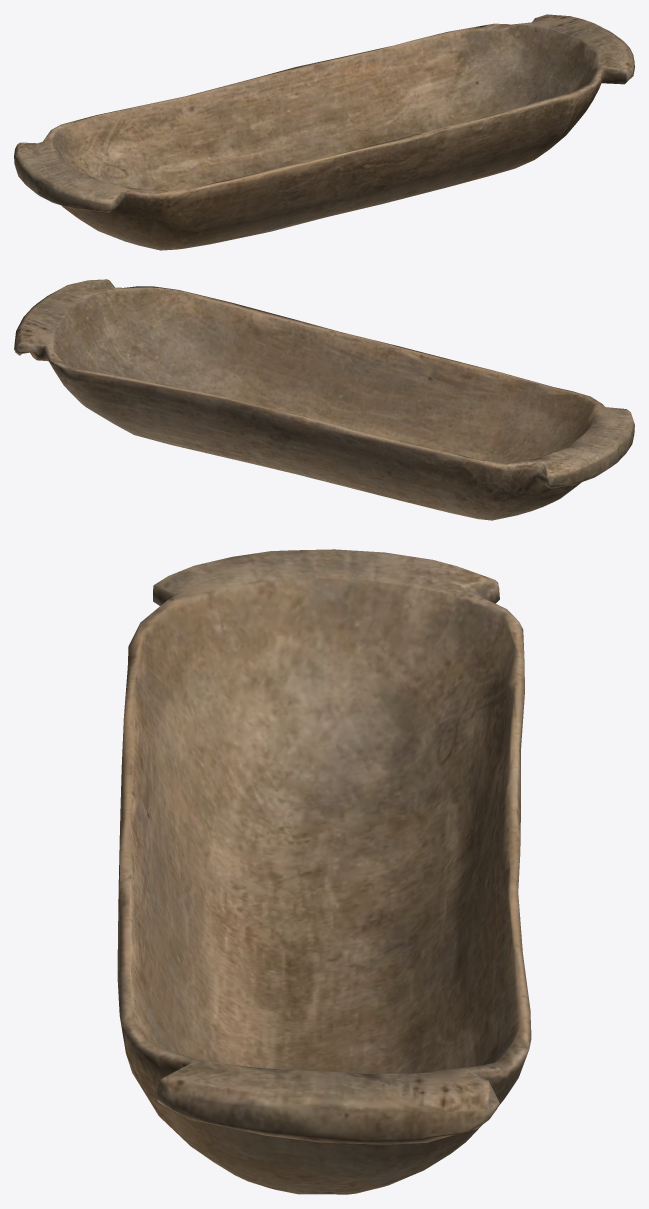
File: trough.glb
3 views of the same model, one above another, from view 1: azimuth 30°, elevation 25°; view 2: azimuth 150°, elevation 25°; view 3: azimuth 270°, elevation 25° (orthographic). The views are drawn at different scales.
Visible parts, largest first — view 1: ukqocheaw_LOD0_TIER2_000; view 2: ukqocheaw_LOD0_TIER2_000; view 3: ukqocheaw_LOD0_TIER2_000.
Boxes of the visible parts, x1=… form: ukqocheaw_LOD0_TIER2_000: x1=14, y1=14, x2=634, y2=250; ukqocheaw_LOD0_TIER2_000: x1=14, y1=279, x2=634, y2=520; ukqocheaw_LOD0_TIER2_000: x1=117, y1=549, x2=531, y2=1194.
Bounding box in the file's own units: 0.9299 × 0.1505 × 0.2867.
1 material, 1 textured.
